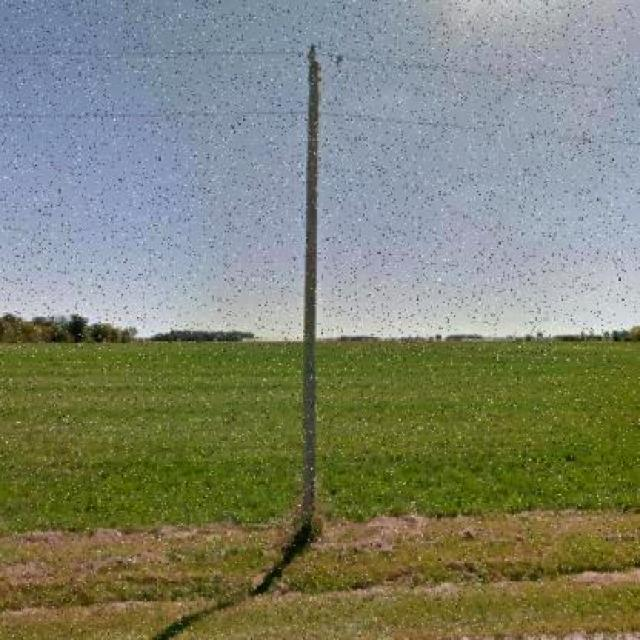pole: (297, 46, 320, 534)
wire: (0, 49, 640, 95), (2, 109, 639, 149)
